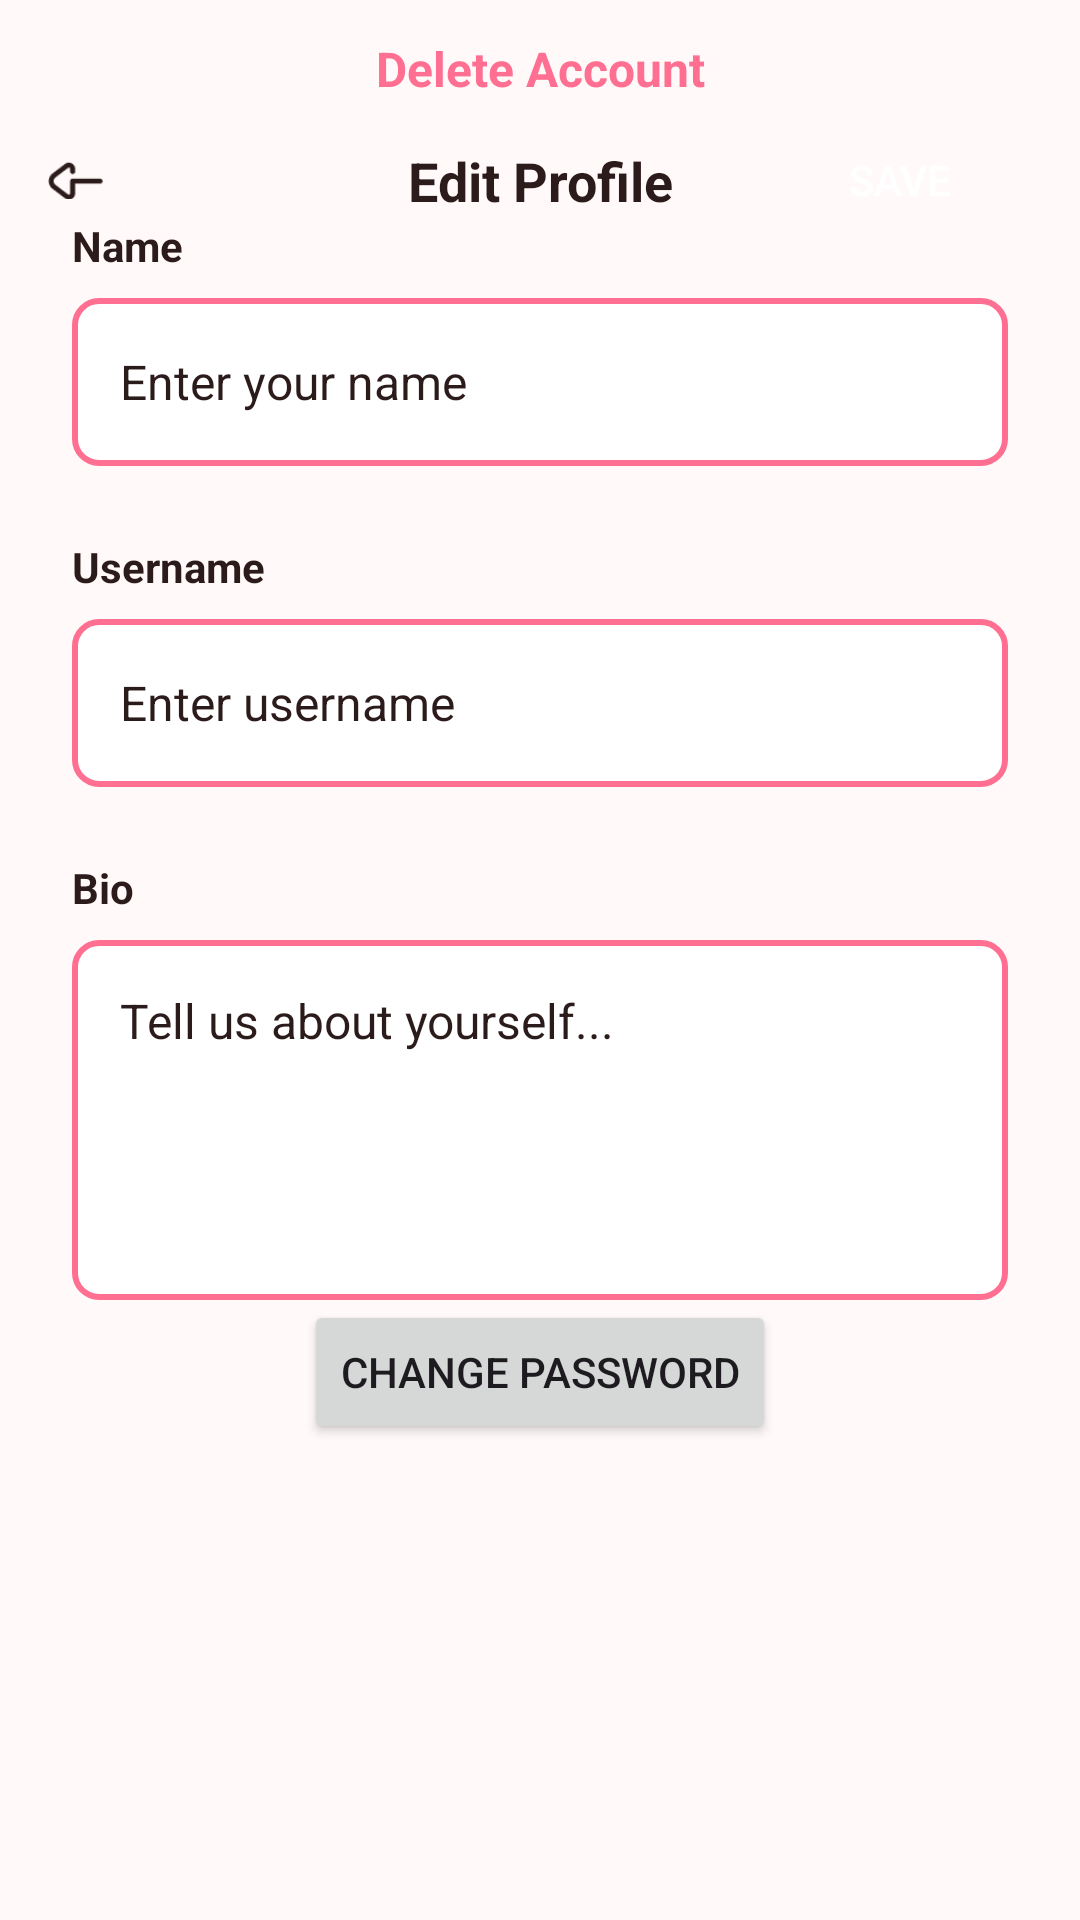

Screen size 1080px x 1920px. Icon name, then its box in pixels as (x1, y1, x2, y2):
back arrow: (48, 162, 103, 199)
